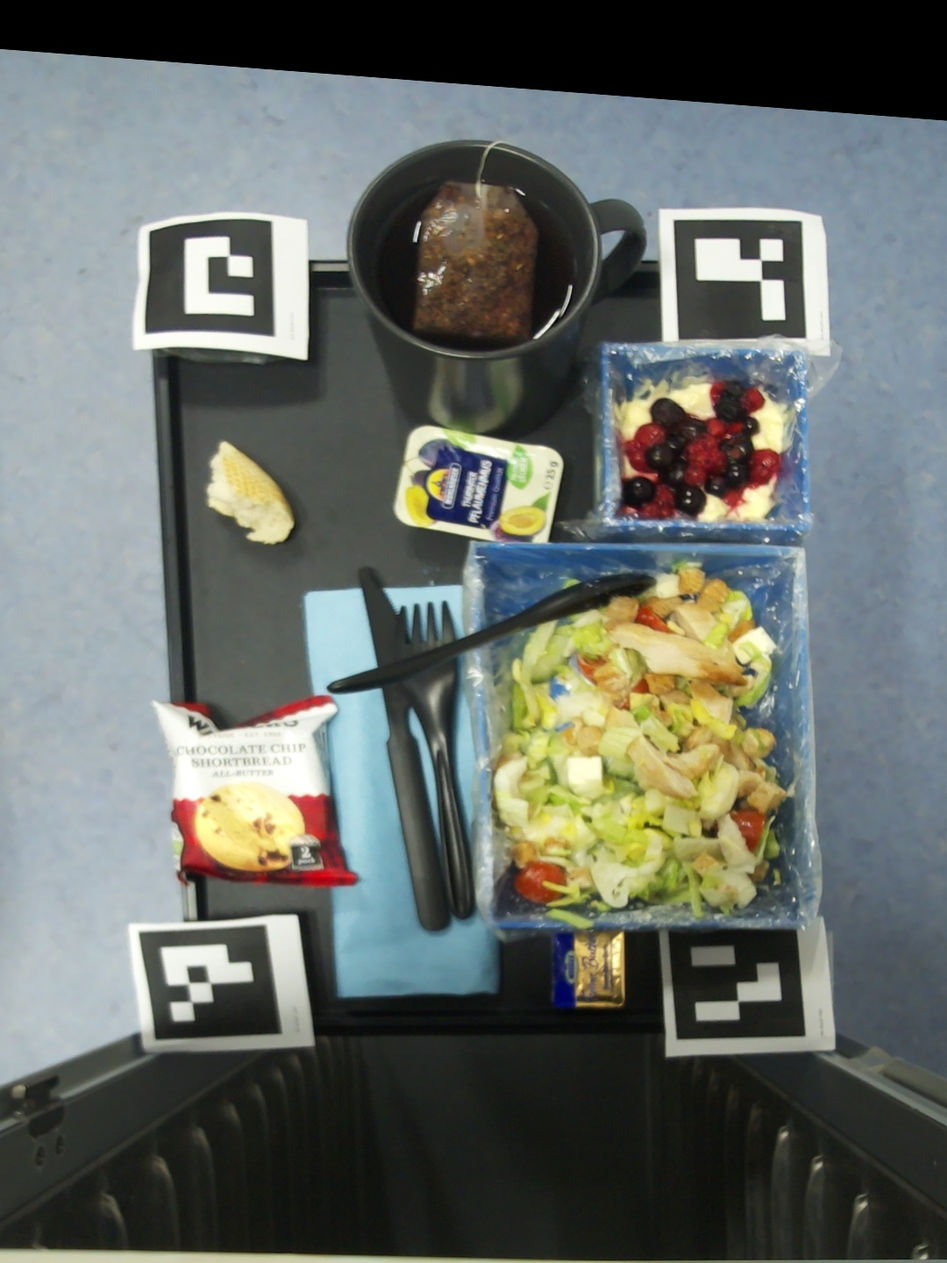bread_roll: (206, 441, 294, 544)
butter: (550, 931, 625, 1008)
cookie: (151, 694, 358, 887)
plum_jam: (393, 425, 563, 542)
salad_main: (493, 560, 786, 930), (773, 868, 781, 886)
tea_cup: (348, 140, 648, 439)
vanilla_pudding_with_fruits: (614, 370, 795, 522)
